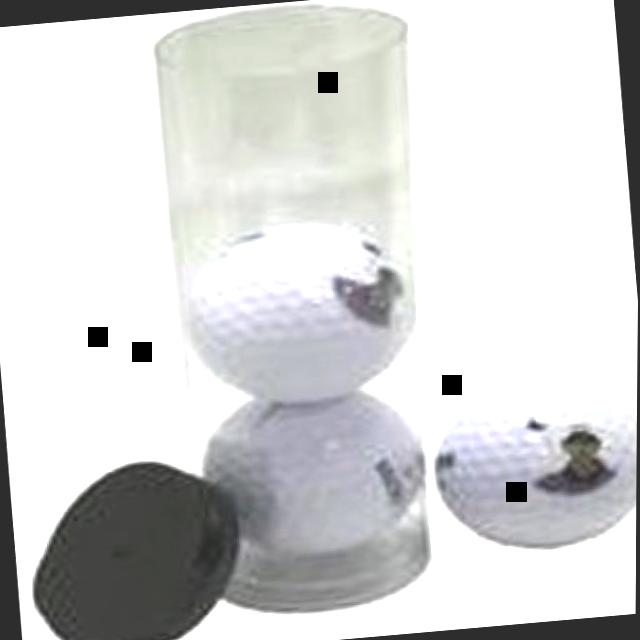golf ball: (166, 200, 423, 406), (187, 378, 441, 569), (428, 362, 638, 574)
